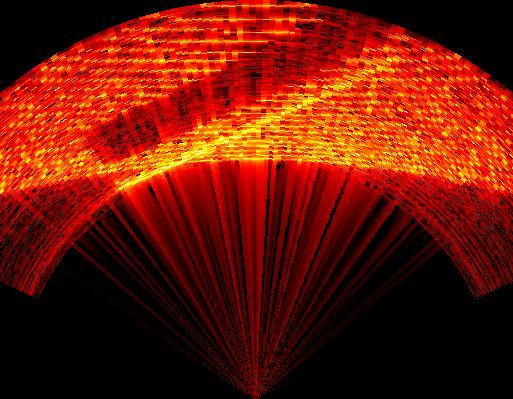pipe: (78, 9, 397, 166)
